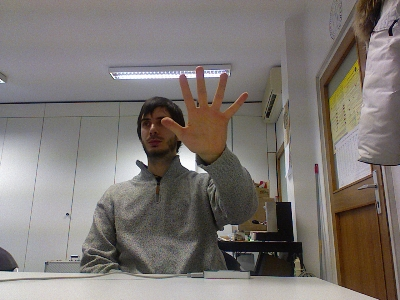布: (161, 63, 248, 157)
